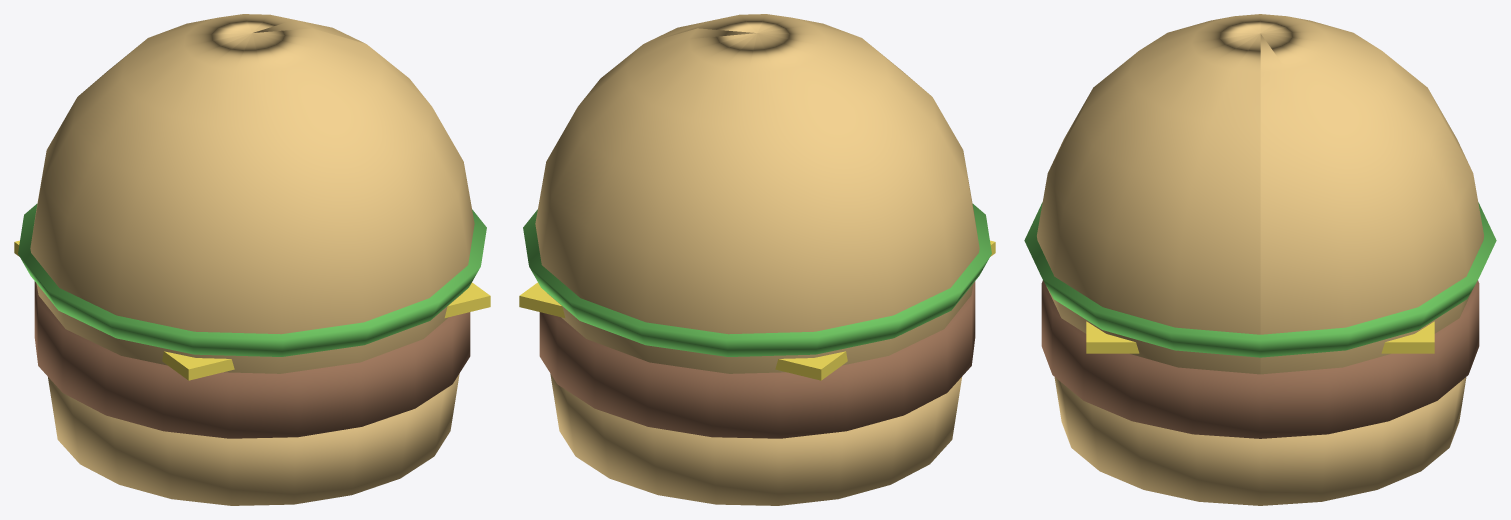
3 renders of one model, left to right at view 1: azimuth 30°, elevation 25°; view 2: azimuth 150°, elevation 25°; view 3: azimuth 270°, elevation 25°, orthographic.
Parts seen in each view (by area): view 1: Generated3DMesh; view 2: Generated3DMesh; view 3: Generated3DMesh.
Boxes of the visible parts, <box> form: Generated3DMesh: <box>14,14,490,505</box>; Generated3DMesh: <box>519,14,995,505</box>; Generated3DMesh: <box>1024,14,1496,505</box>.
Size of the model in its own units: 1.9 by 1.8 by 1.9.
